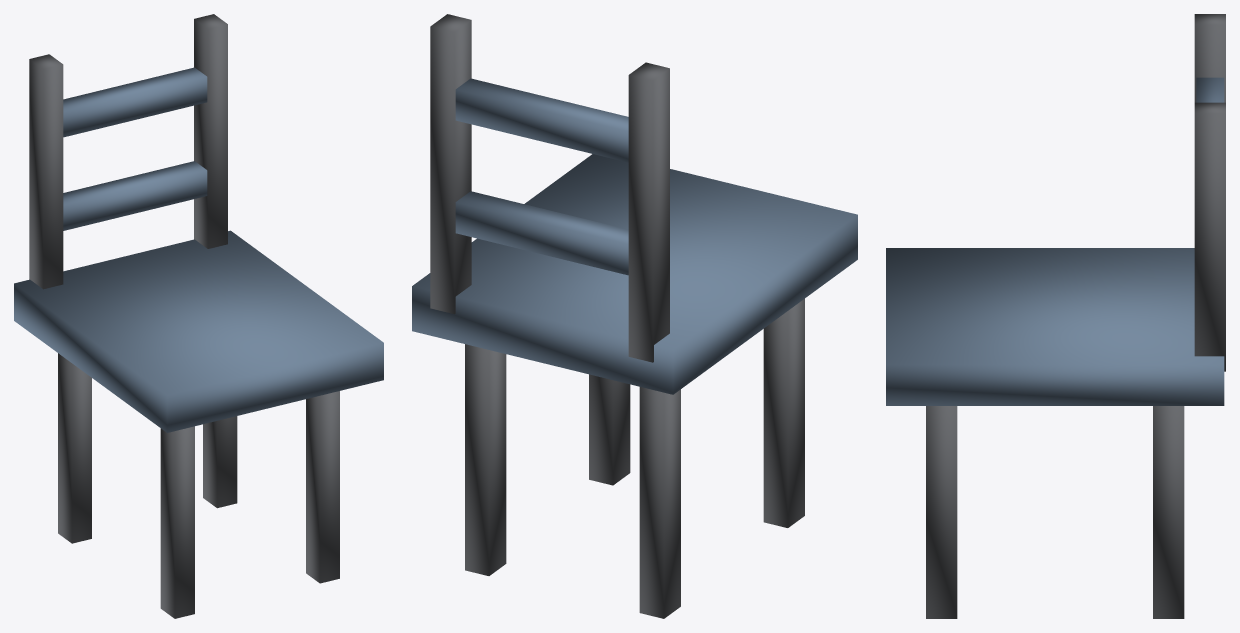
Rendered from armchair__deep.glb.
3 renders of one model, left to right at view 1: azimuth 30°, elevation 25°; view 2: azimuth 150°, elevation 25°; view 3: azimuth 270°, elevation 25°, orthographic. The views are drawn at different scales.
Visible parts, largest first — view 1: world; view 2: world; view 3: world.
Boxes of the visible parts, left/top/right/bottom form: world: left=14, top=14, right=383, bottom=618; world: left=412, top=14, right=857, bottom=618; world: left=886, top=14, right=1225, bottom=618.
Size of the model in its own units: 0.4846 by 0.9892 by 0.5967.
